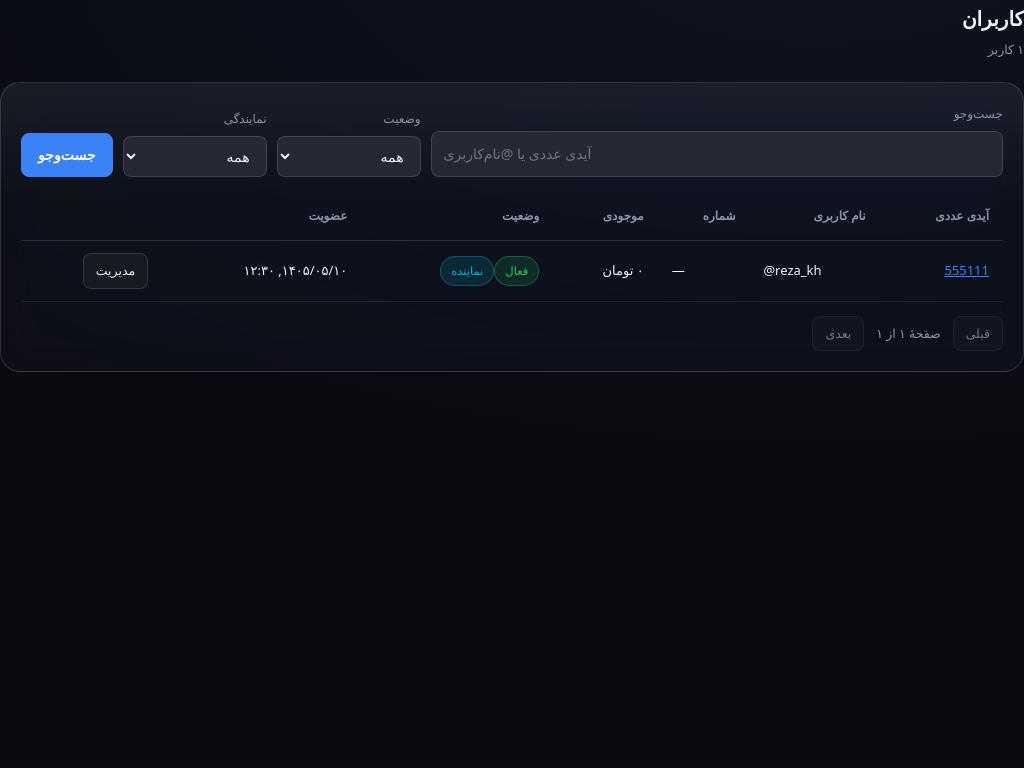
Test case: saving › says a stored personal discount is not what the customer pays
This screenshot has width=1024, height=768.
Click the button "مدیریت" at {"x": 116, "y": 271}, box [83, 253, 148, 289]
(page scrolled)
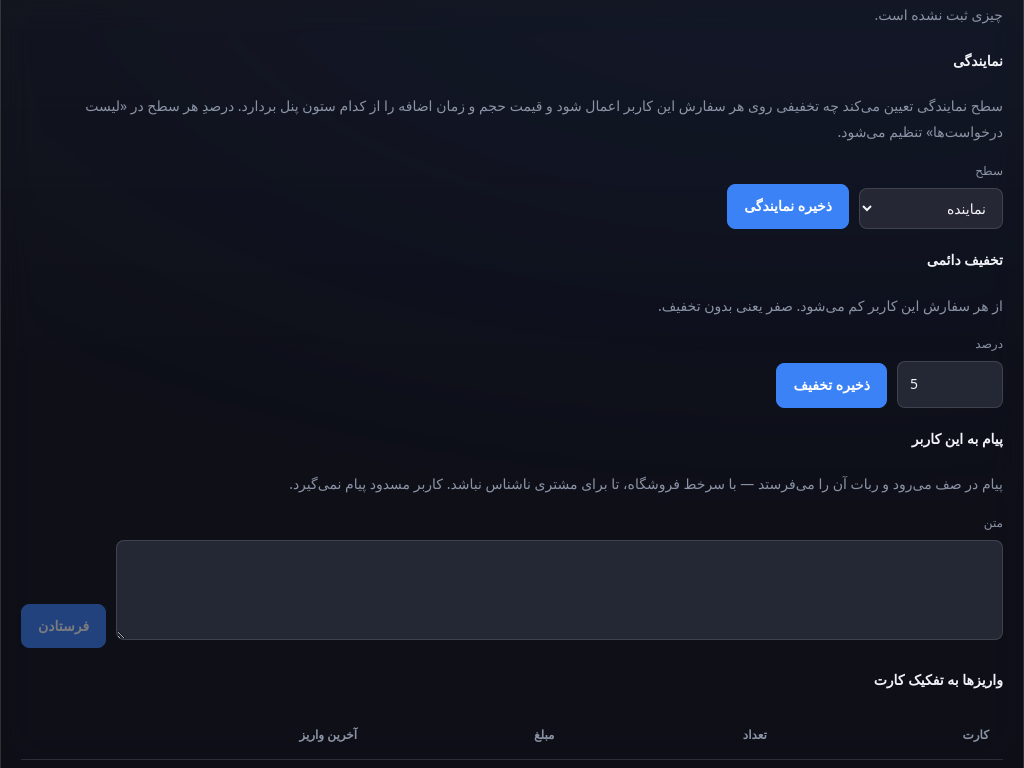
Expected: the heading "نمایندگی" is shown, [953, 51, 1003, 70]
Replace the text in the number field labelled "درصد" with "12" at {"x": 950, "y": 384}, box [897, 361, 1003, 408]
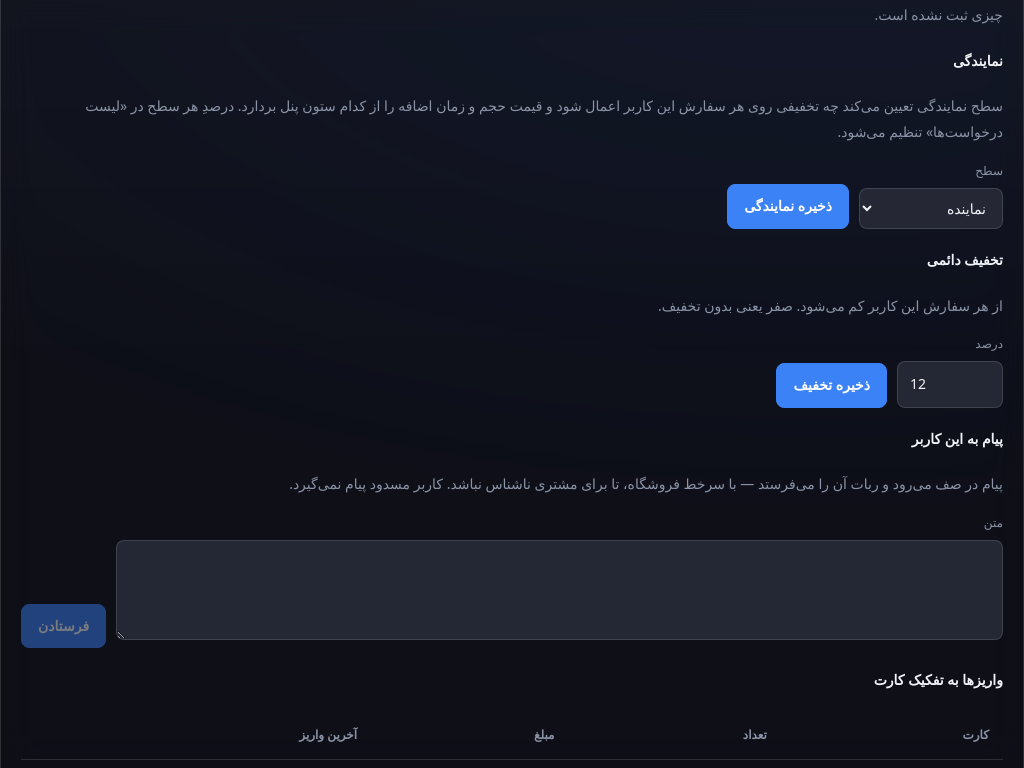
Click the button "ذخیره تخفیف" at {"x": 832, "y": 385}, box [776, 363, 887, 408]
(page scrolled)
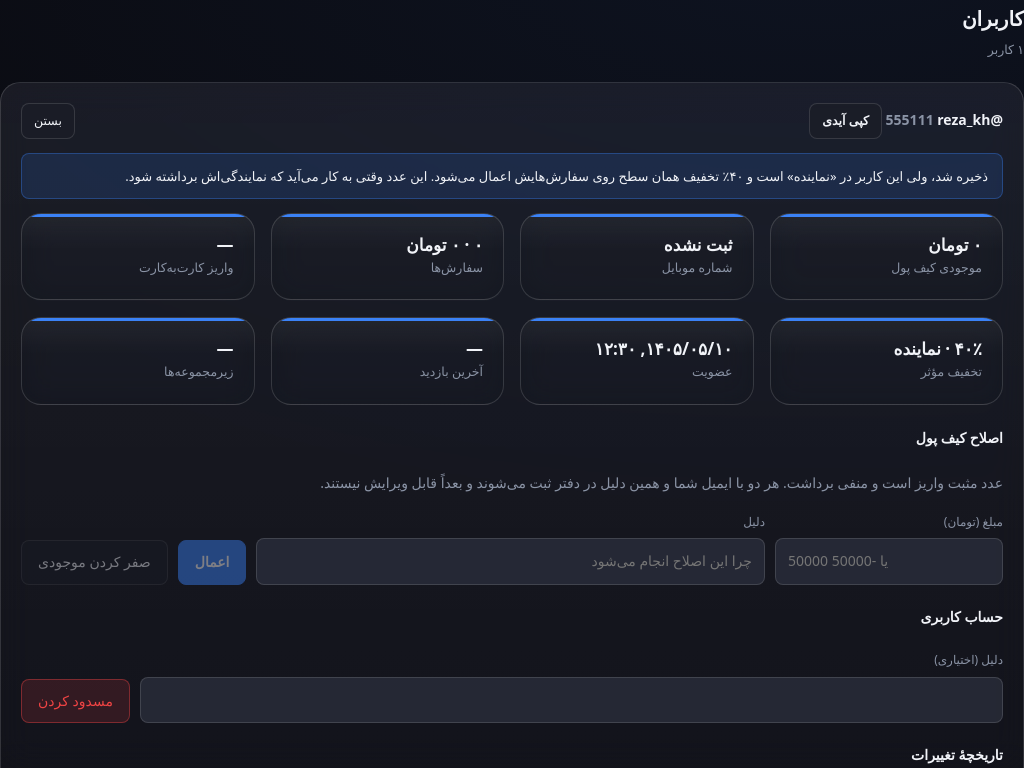
Expected: the text "در «نماینده» است" shows "۴۰٪", [125, 166, 988, 184]
